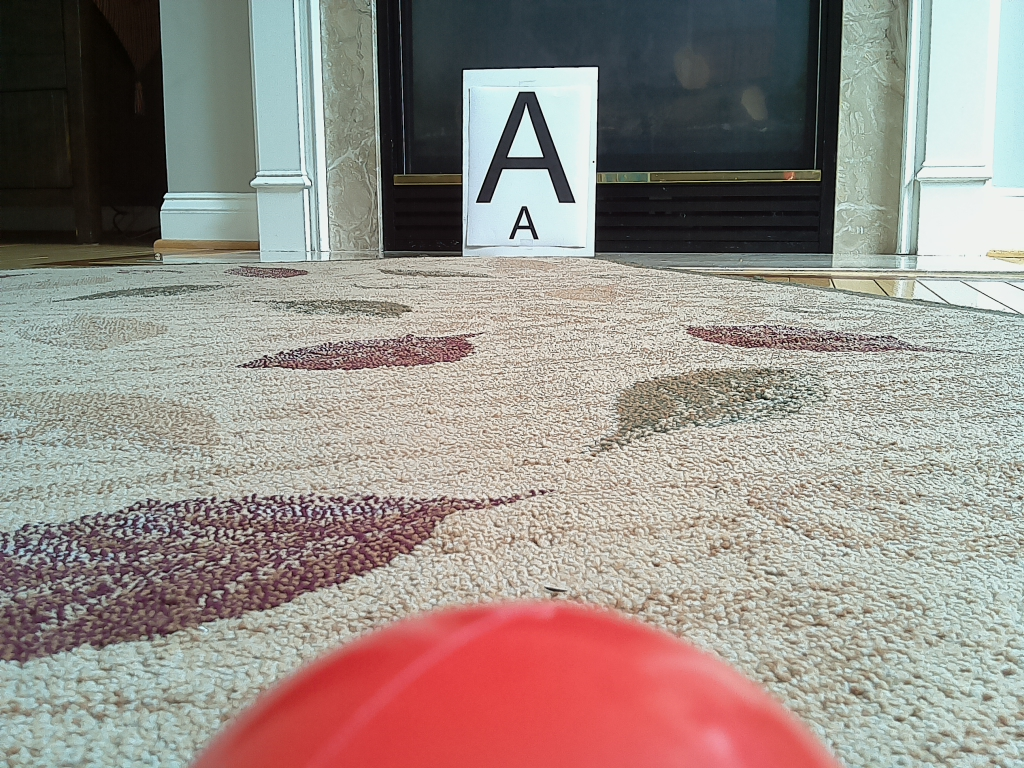letter: (476, 91, 576, 205)
